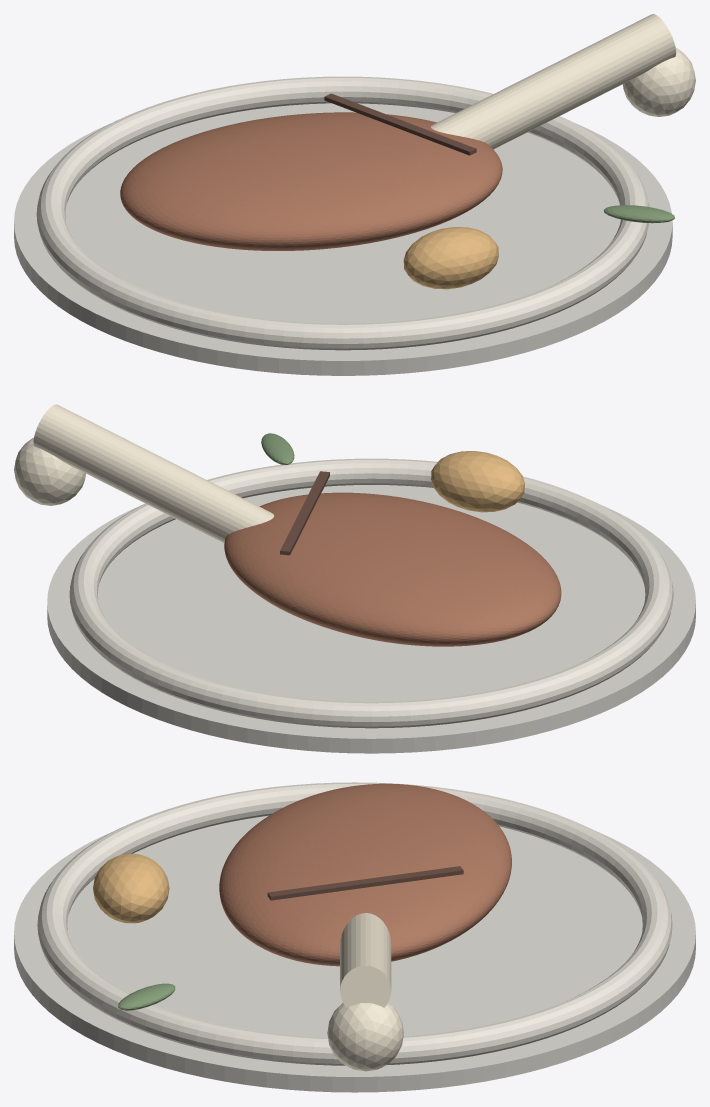
The model's file is tomahawk-v86.glb.
The picture shows the model from 3 angles, top to bottom: view 1: azimuth 30°, elevation 25°; view 2: azimuth 150°, elevation 25°; view 3: azimuth 270°, elevation 25°; orthographic projection. The views are drawn at different scales.
Parts seen in each view (by area): view 1: plate, steak, plate_rim, bone, potato, bone_knob, char, greens; view 2: plate, steak, plate_rim, bone, potato, bone_knob, char, greens; view 3: plate, steak, plate_rim, bone, bone_knob, potato, char, greens.
Boxes of the visible parts, box(x1,y1,x2,y2) form: plate: box(14, 103, 672, 375); steak: box(120, 112, 502, 250); plate_rim: box(36, 76, 649, 350); bone: box(430, 14, 676, 149); potato: box(403, 227, 498, 289); bone_knob: box(622, 47, 695, 116); char: box(324, 93, 476, 155); greens: box(603, 205, 674, 223); plate: box(47, 485, 695, 753); steak: box(224, 492, 561, 646); plate_rim: box(69, 458, 673, 728); bone: box(33, 404, 273, 543); potato: box(431, 451, 524, 512); bone_knob: box(14, 437, 85, 505); char: box(280, 471, 329, 555); greens: box(261, 433, 294, 464); plate: box(14, 815, 695, 1092); steak: box(219, 783, 511, 966); plate_rim: box(37, 782, 672, 1065); bone: box(340, 913, 391, 1007); bone_knob: box(327, 1002, 403, 1071); potato: box(93, 853, 169, 923); char: box(267, 866, 463, 900); greens: box(118, 983, 175, 1010).
Size of the model in its own units: 0.358 by 0.0746 by 0.32.
